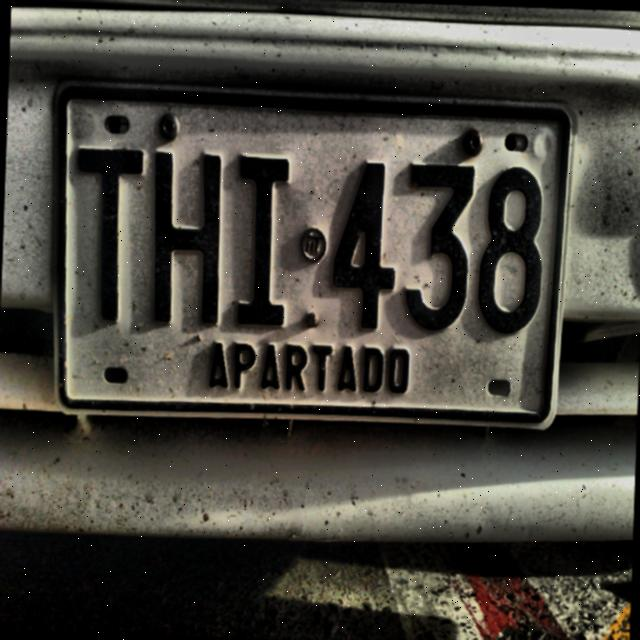3: (401, 157, 480, 334)
4: (328, 155, 399, 334)
8: (472, 161, 553, 340)
H: (148, 147, 226, 327)
I: (226, 148, 293, 328)
T: (74, 144, 146, 323)
